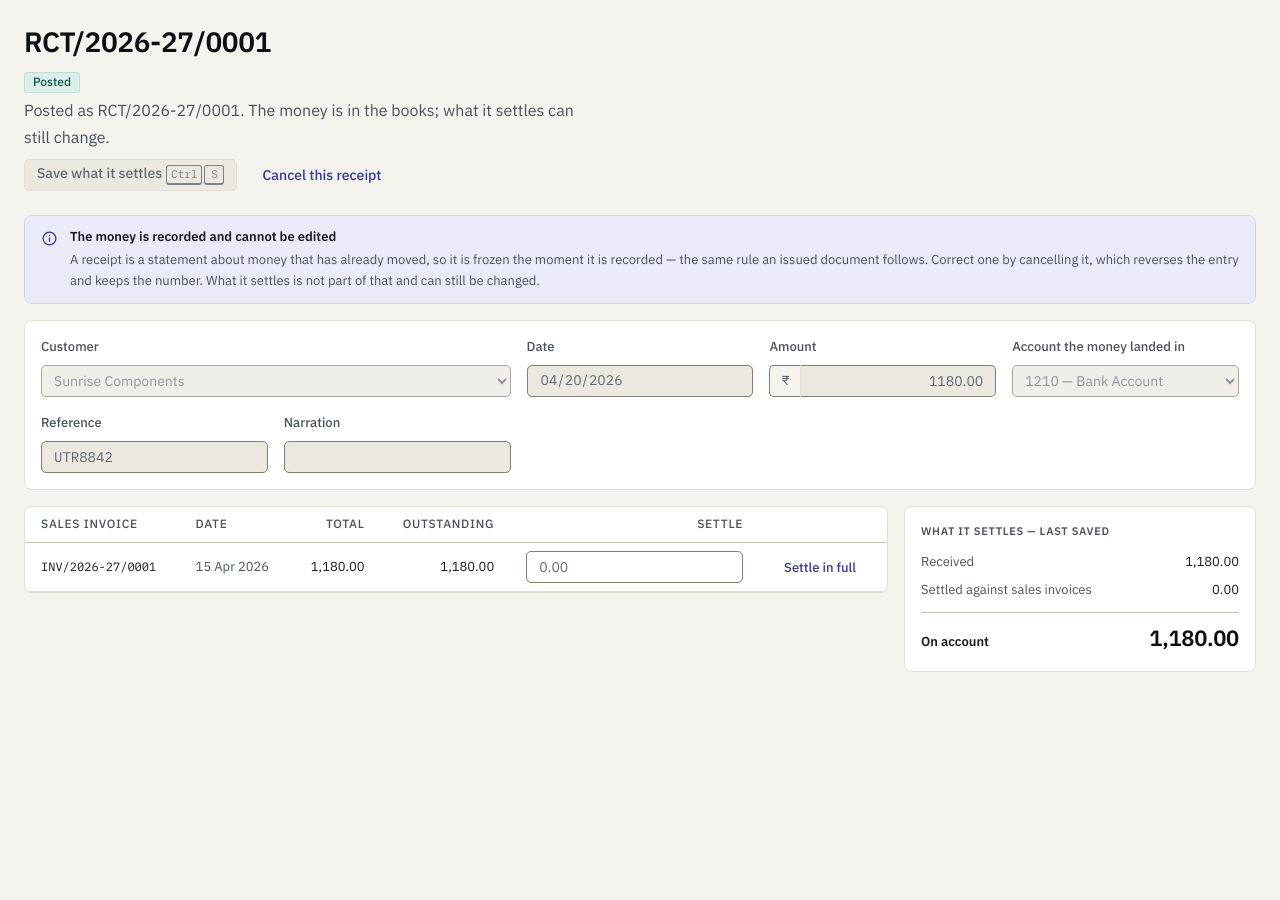
Test: a receipt that exists › cancels, and says the invoices are owed again
The width and height of the screenshot is (1280, 900).
Click the button "Cancel this receipt".
click(322, 175)  # box [250, 159, 394, 191]
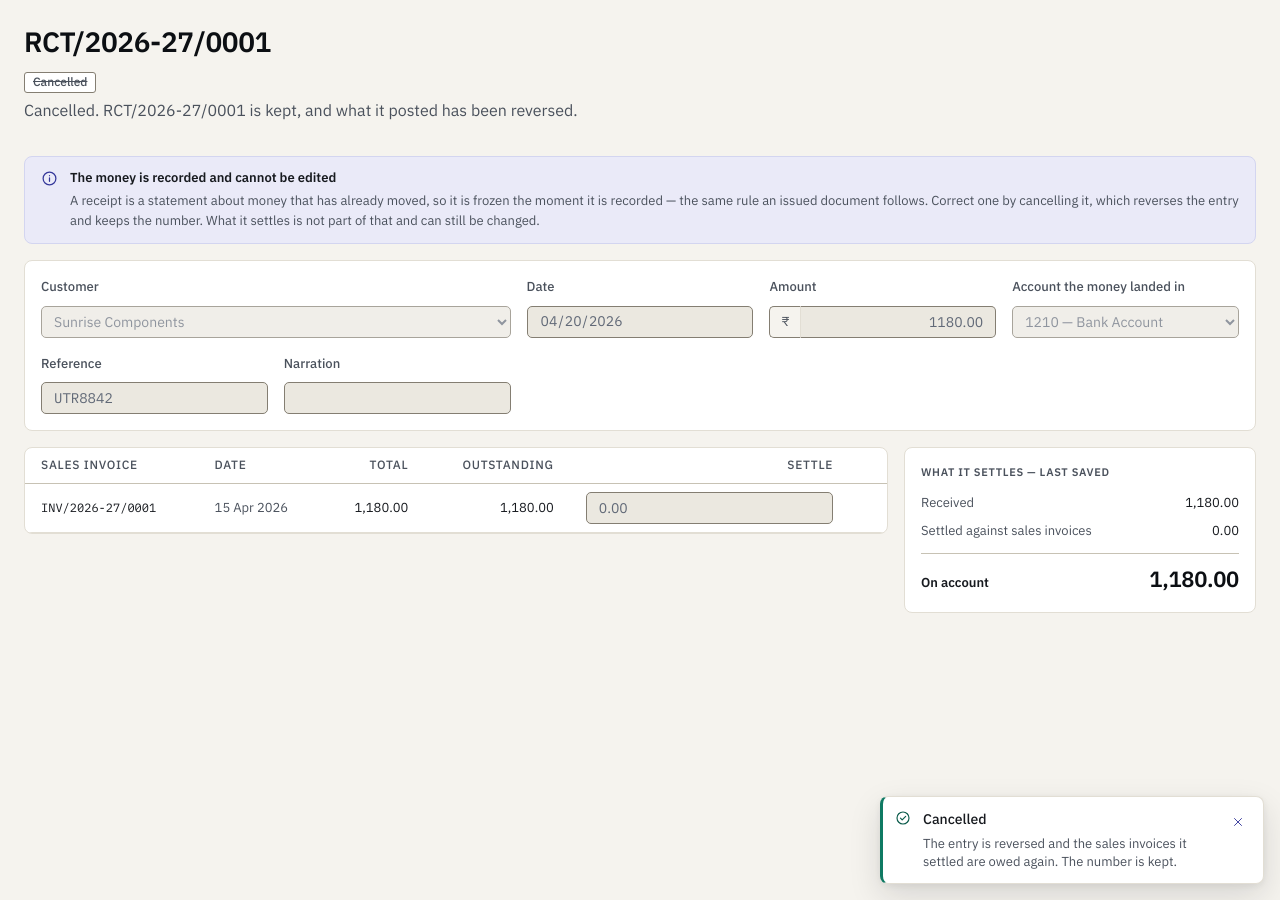
Expected: the text "owed again" is shown, [923, 835, 1187, 870]
